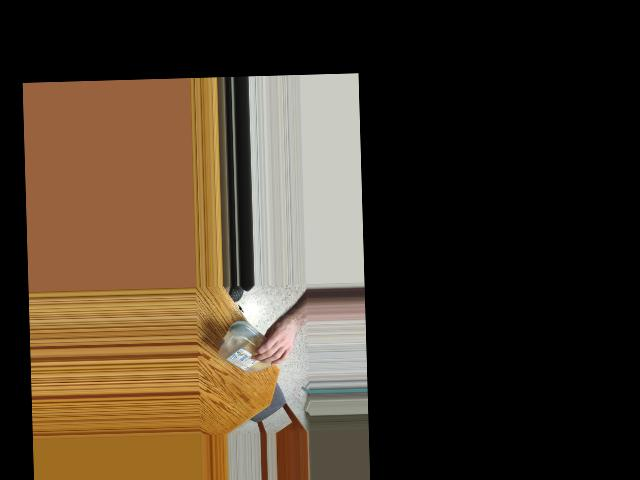cheese: (216, 322, 285, 375)
